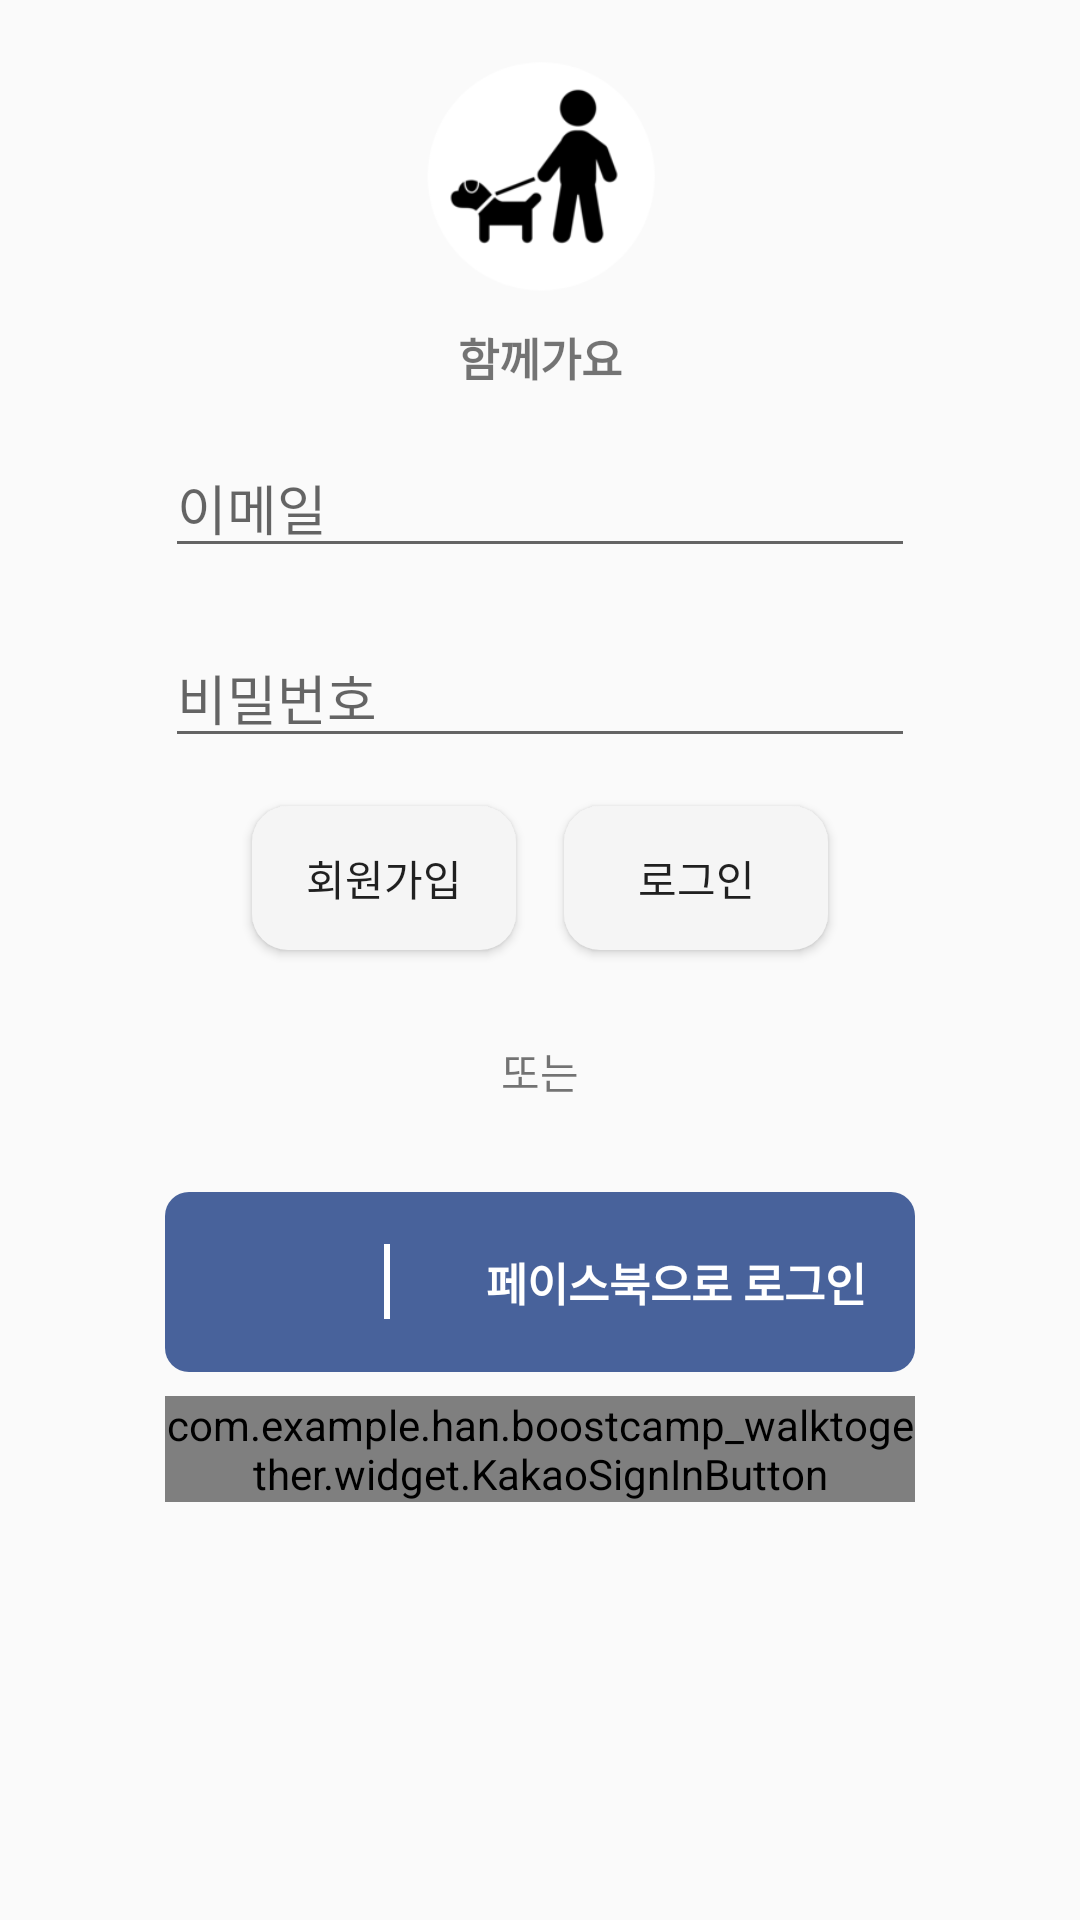

Screen size 1080px×1920px. Icon name, then its box in pixels as (x1, y1, x2, y2):
walking app: (450, 89, 618, 243)
